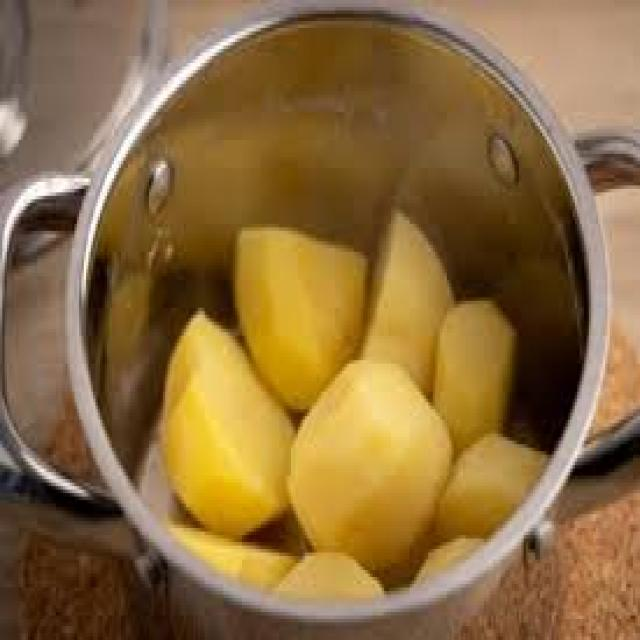organic waste: (284, 350, 454, 570), (158, 304, 296, 532), (230, 220, 368, 392), (358, 203, 452, 385), (428, 430, 545, 542), (431, 290, 516, 437), (163, 507, 293, 598), (268, 542, 372, 595), (402, 528, 480, 591)
